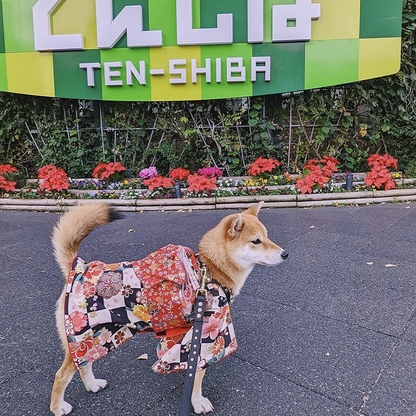shiba: (43, 196, 296, 416)
